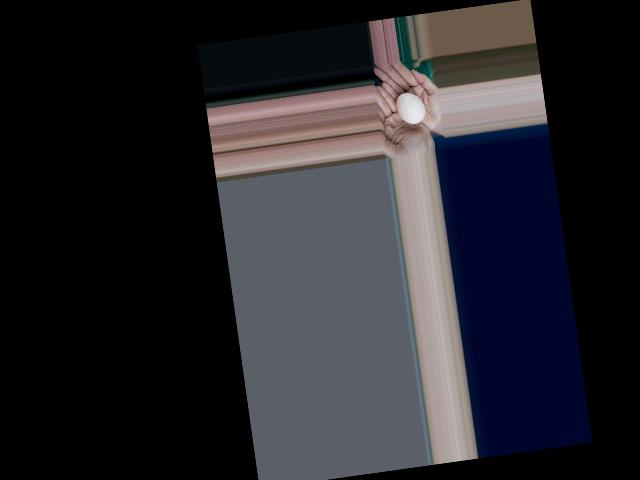egg: (394, 90, 426, 125)
